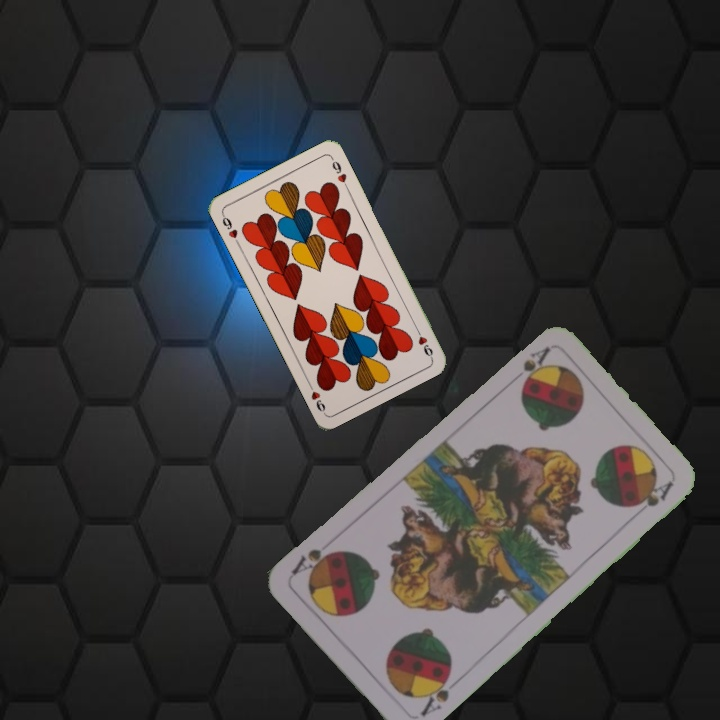H9: (411, 322, 436, 360), (218, 209, 242, 247)
SA: (416, 668, 454, 719), (517, 342, 553, 387)
